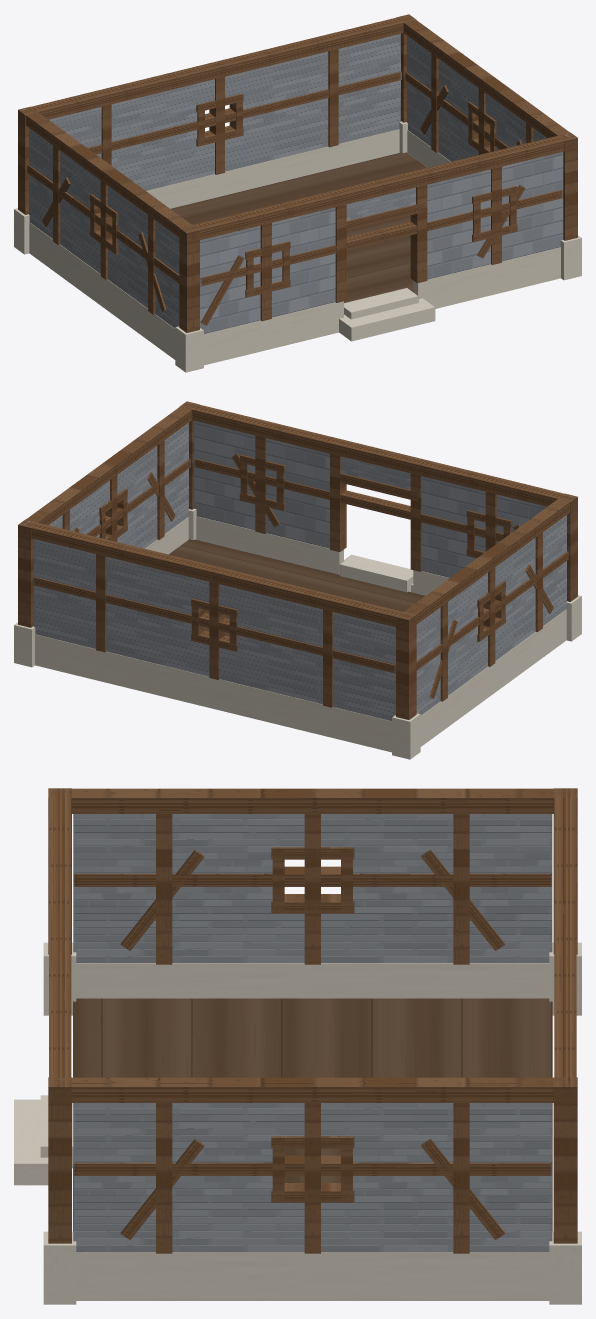
Rendered from Building7.glb.
3 views of the same model, one above another, from view 1: azimuth 30°, elevation 25°; view 2: azimuth 150°, elevation 25°; view 3: azimuth 270°, elevation 25° (orthographic). The views are drawn at different scales.
Visible parts, largest first — view 1: building7_complete; view 2: building7_complete; view 3: building7_complete.
Part boxes in pixels (bbox=[...]): building7_complete: bbox=[14, 14, 581, 372]; building7_complete: bbox=[14, 401, 581, 759]; building7_complete: bbox=[14, 788, 581, 1304].
Bounding box in the file's own units: 11.09 × 3.68 × 8.79.
Materials: 1 (1 with a texture image).
